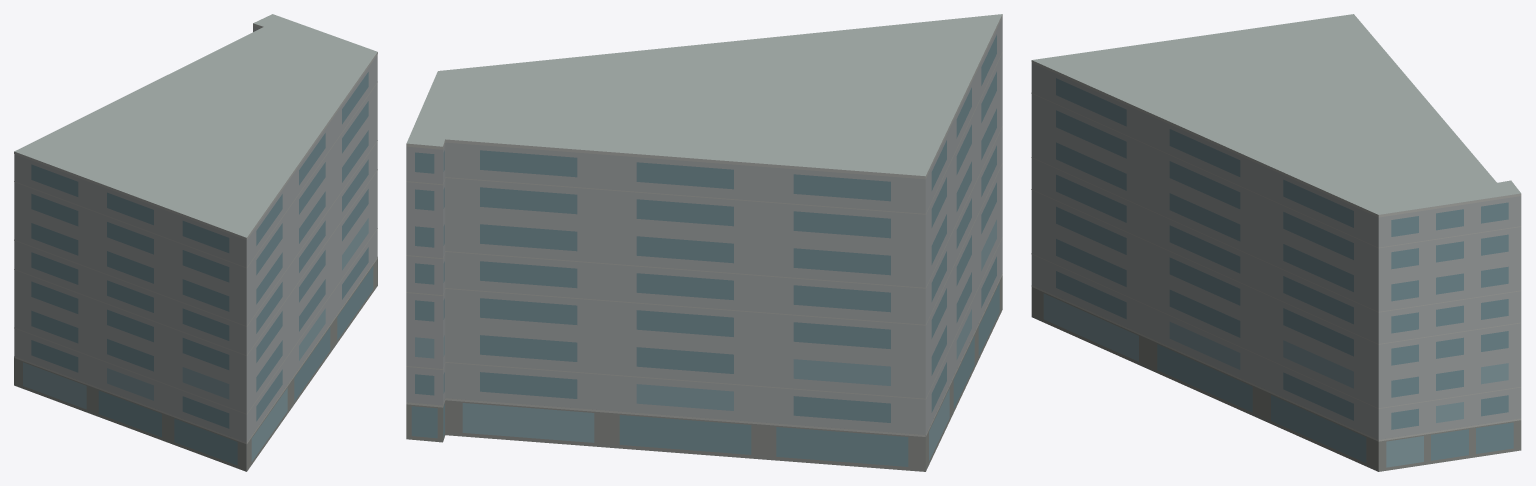
The model's file is survey-upis-32988316.glb.
3 views of the same model, side by side, from view 1: azimuth 30°, elevation 25°; view 2: azimuth 150°, elevation 25°; view 3: azimuth 270°, elevation 25° (orthographic). The views are drawn at different scales.
Parts seen in each view (by area): view 1: survey-upis-32988316.tmp; view 2: survey-upis-32988316.tmp; view 3: survey-upis-32988316.tmp.
Boxes of the visible parts, left/top/right/bottom form: survey-upis-32988316.tmp: left=14, top=14, right=377, bottom=471; survey-upis-32988316.tmp: left=406, top=14, right=1002, bottom=471; survey-upis-32988316.tmp: left=1031, top=14, right=1521, bottom=471.
Bounding box in the file's own units: 38.91 × 23.2 × 40.08.
